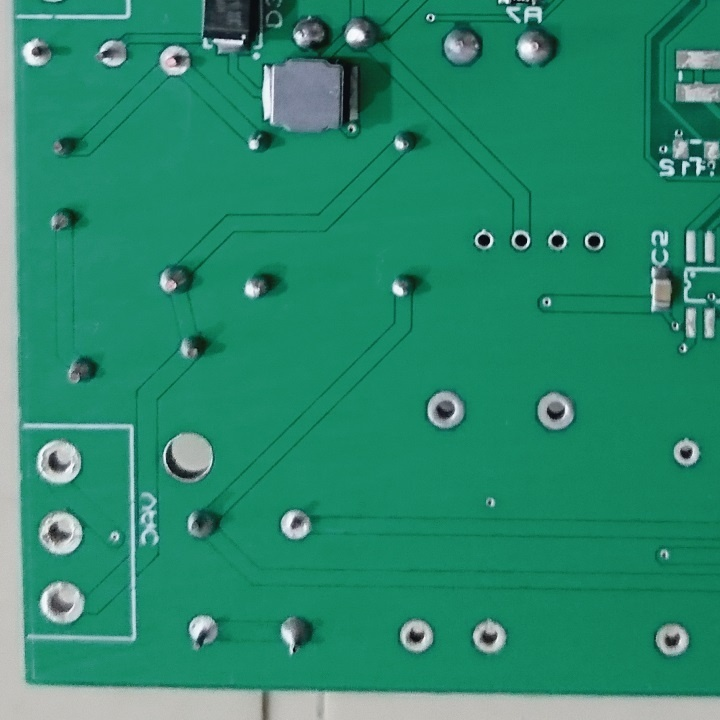F: (33, 435, 87, 486), (36, 580, 89, 630), (36, 509, 87, 555), (533, 390, 579, 434), (422, 389, 466, 431), (468, 614, 508, 658), (396, 616, 438, 656), (652, 620, 690, 658), (186, 612, 219, 652), (279, 506, 314, 543), (92, 35, 128, 70), (156, 43, 191, 78), (670, 435, 704, 471), (20, 35, 53, 69), (471, 227, 496, 254), (508, 227, 532, 255), (546, 229, 570, 255), (581, 229, 604, 255)
